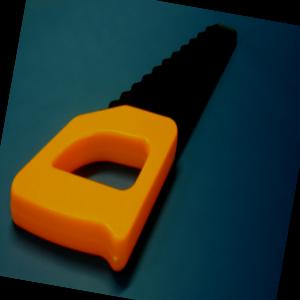serrote: (0, 0, 238, 283)
